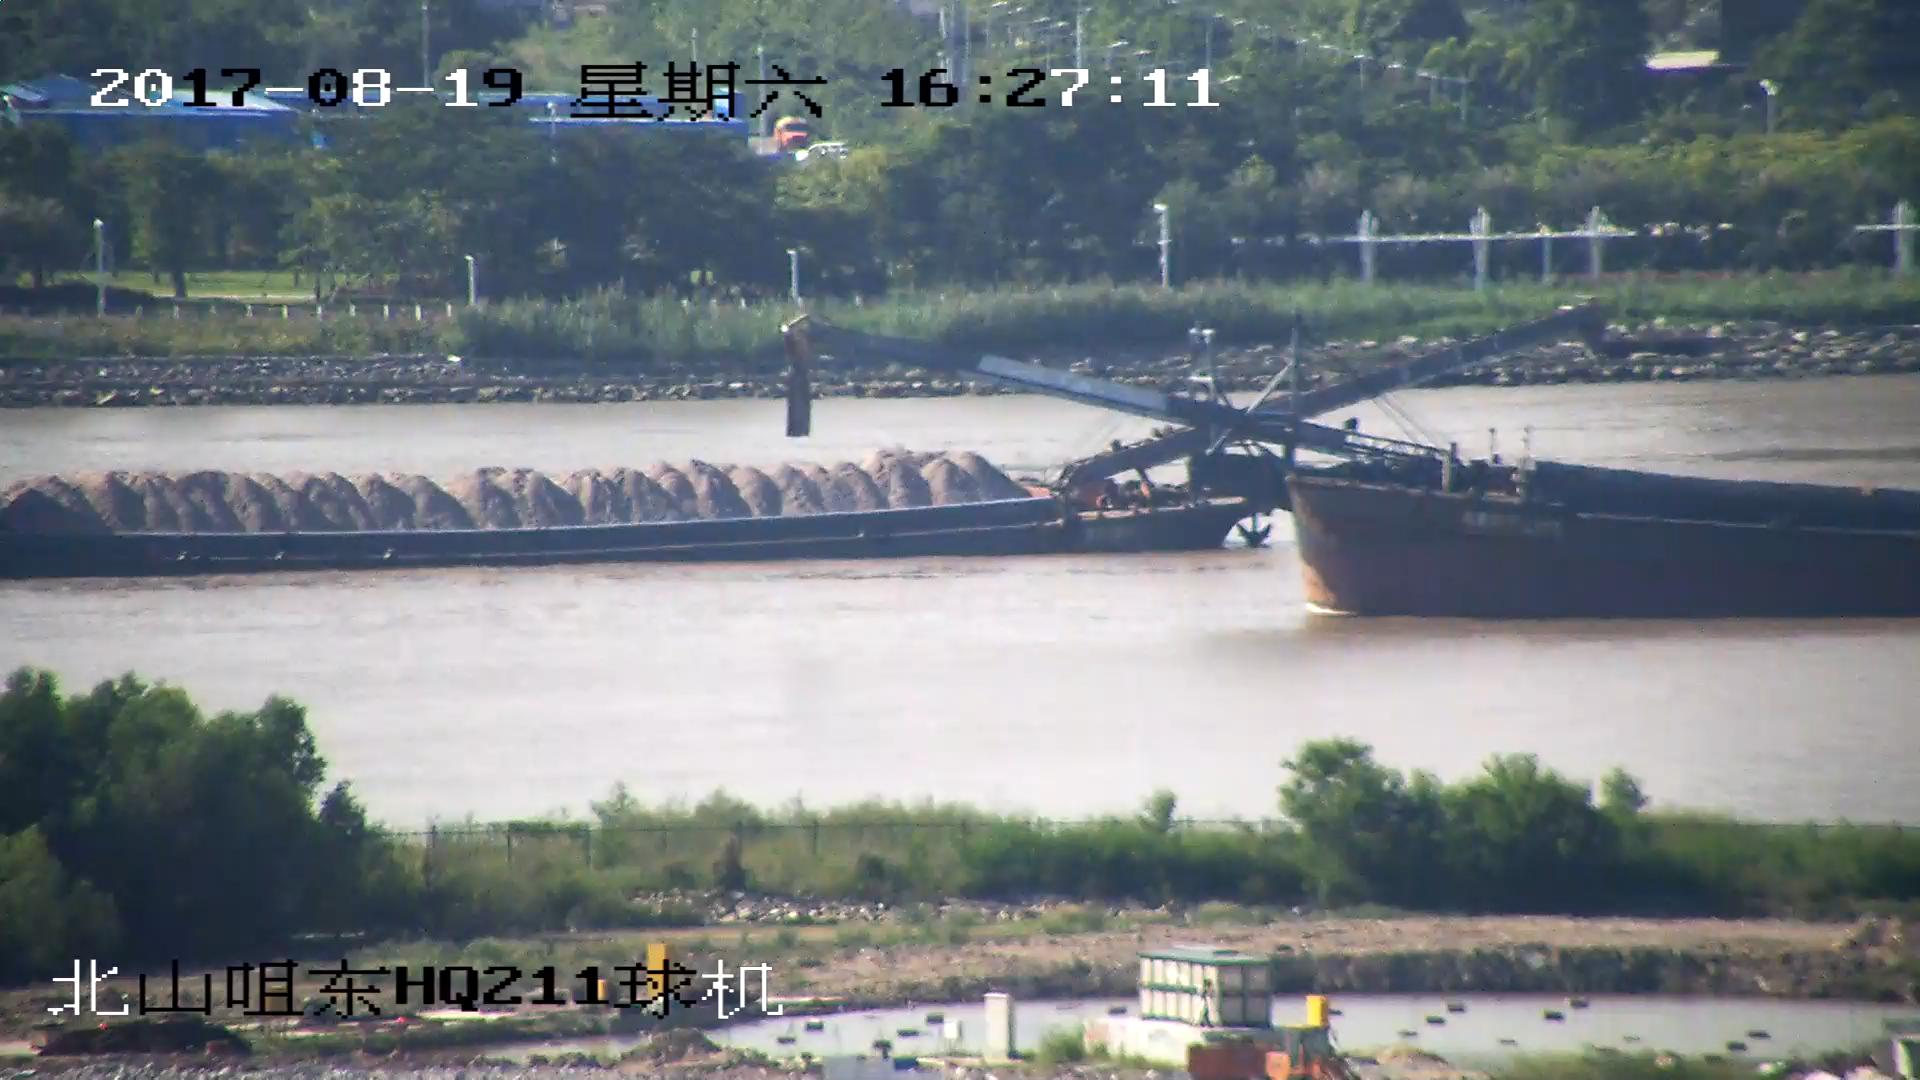bulk cargo carrier: (785, 323, 1919, 620)
ore carrier: (1, 309, 1596, 572)
